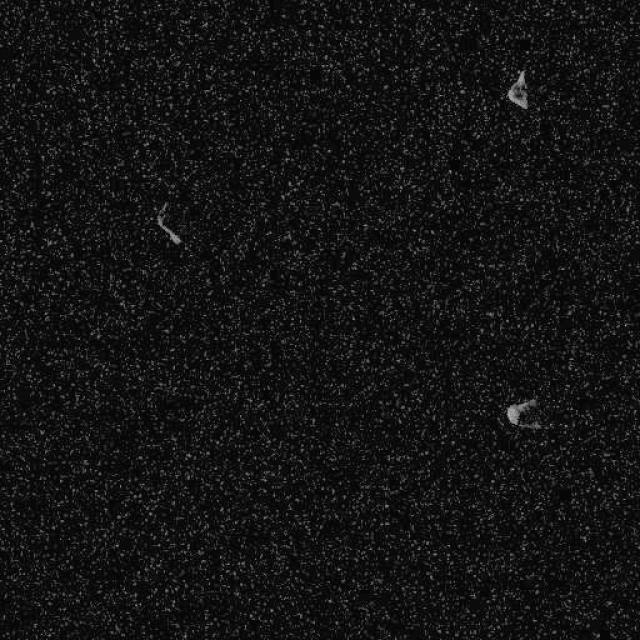D2: (154, 202, 182, 246), (505, 396, 541, 430), (505, 69, 529, 110)
